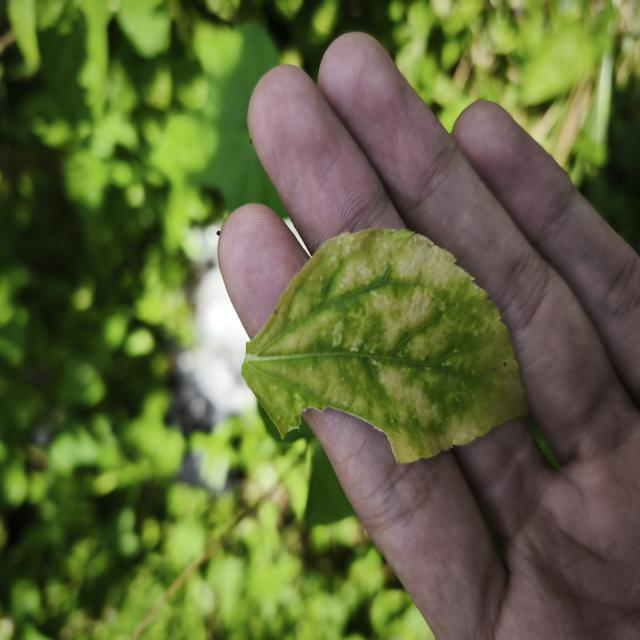Virus Kuning: (240, 226, 536, 470)
